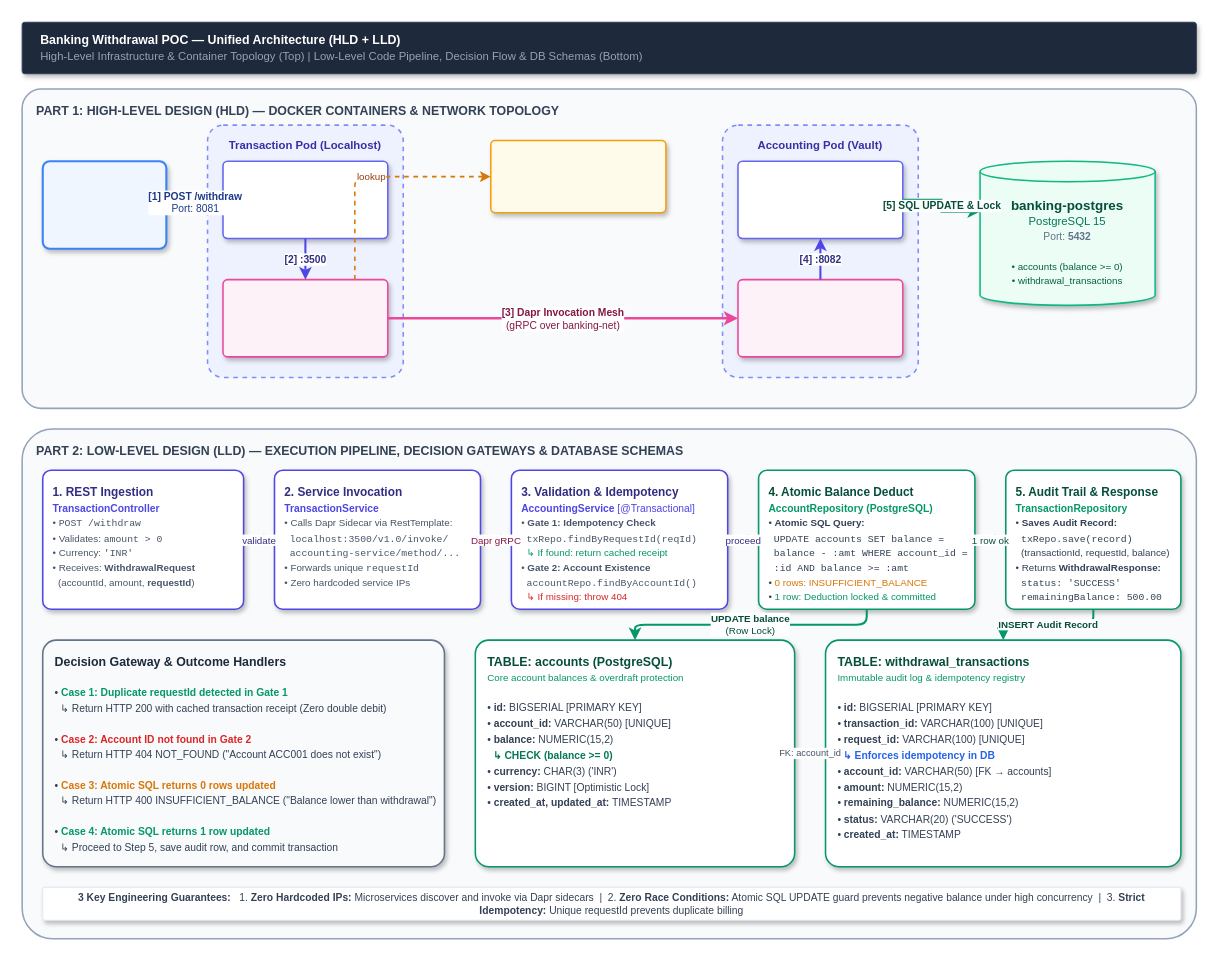
The diagram is 1221 pixels wide and 958 high, and some of its shapes have lost their labels. Here are the shapes that lost their labels. From the top down, the centre of each, then its label:
At (x=578, y=177): "dapr-placement Service Discovery Router Port: 50005".
At (x=105, y=206): "Client Postman / cURL HTTP POST".
At (x=306, y=201): "transaction-app Spring Boot REST API Port: 8081 (Public)".
At (x=821, y=201): "accounting-app Spring Boot Core Engine Port: 8082 (Internal)".
At (x=306, y=319): "transaction-dapr Dapr Sidecar Port: 3500 (Localhost)".
At (x=821, y=319): "accounting-dapr Dapr Sidecar Port: 3501 (Localhost)".
